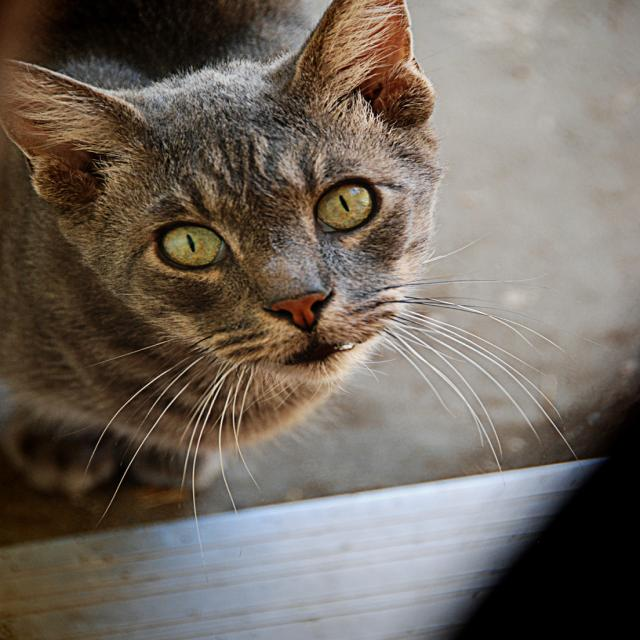Cat: (0, 0, 583, 522)
